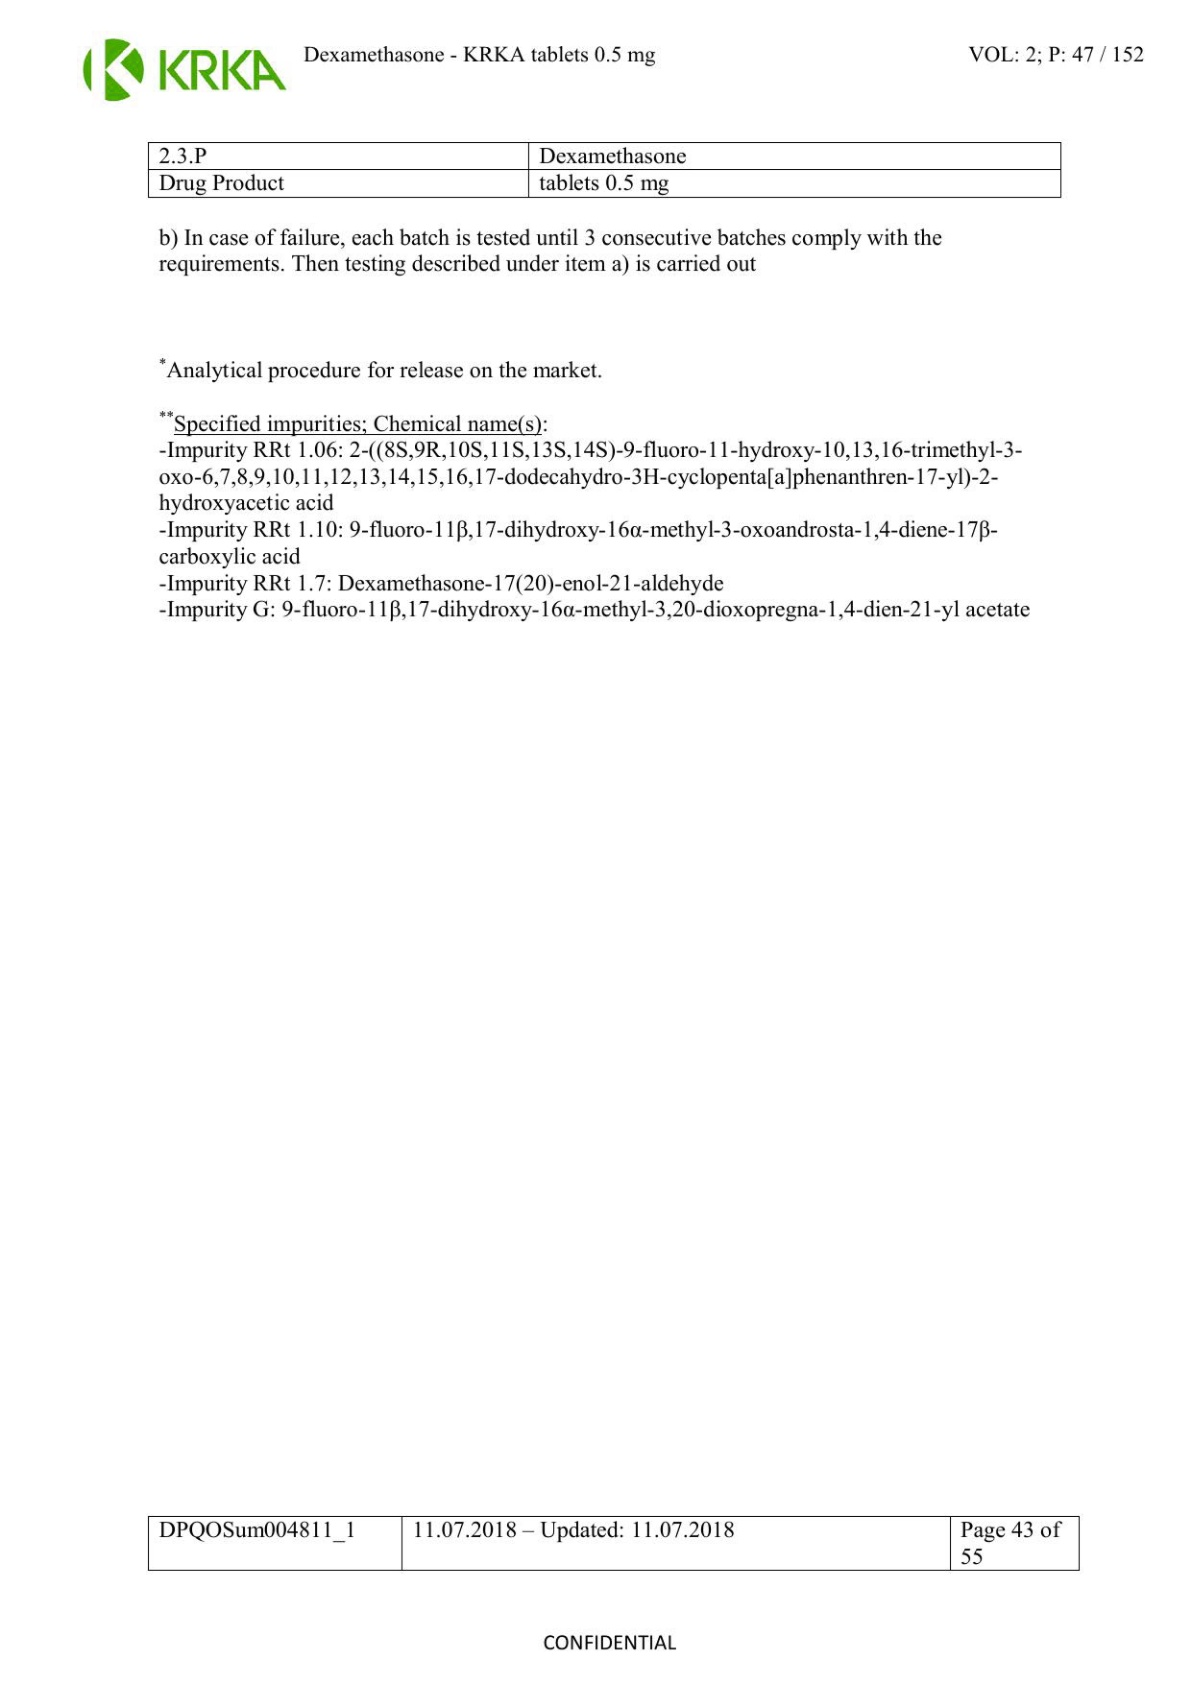full_lined: (147, 142, 1062, 199), (147, 1516, 1080, 1571)
